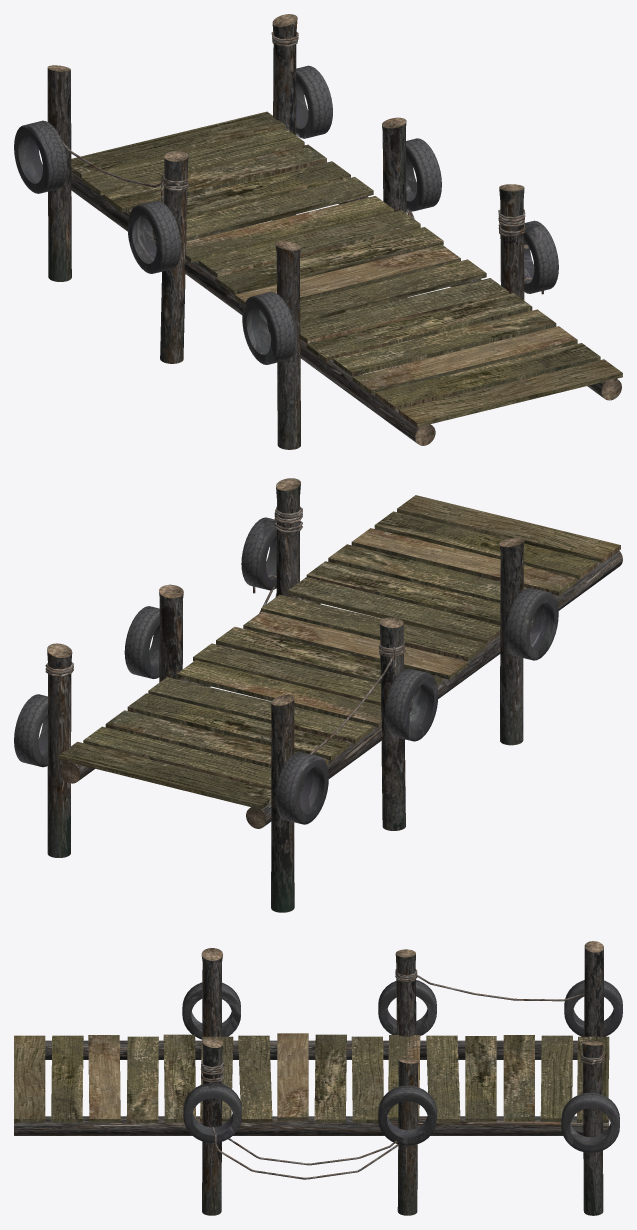
Rendered from coast_old_pier.glb.
The picture shows the model from 3 angles, top to bottom: view 1: azimuth 30°, elevation 25°; view 2: azimuth 150°, elevation 25°; view 3: azimuth 270°, elevation 25°; orthographic projection. The views are drawn at different scales.
Parts seen in each view (by area): view 1: Pier; view 2: Pier; view 3: Pier.
Boxes of the visible parts, left/top/right/bottom form: Pier: left=14, top=14, right=622, bottom=449; Pier: left=14, top=478, right=622, bottom=912; Pier: left=14, top=941, right=622, bottom=1215.
Size of the model in its own units: 283 by 198 by 622.
1 material, 1 textured.
